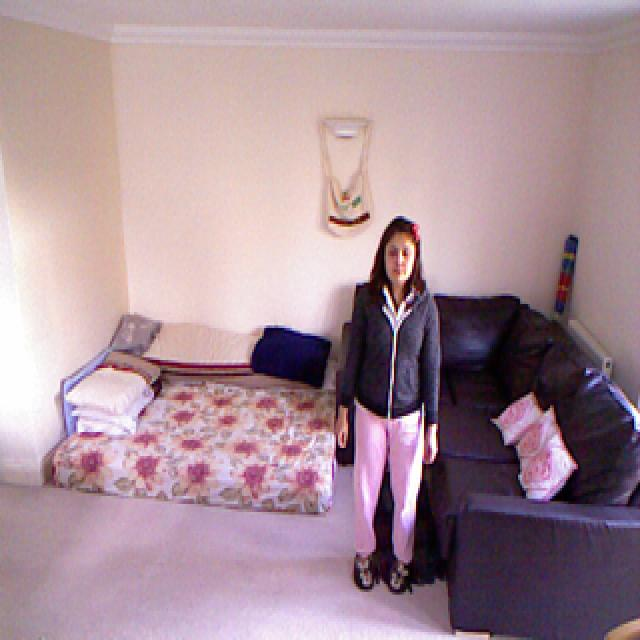standing: (336, 217, 439, 595)
